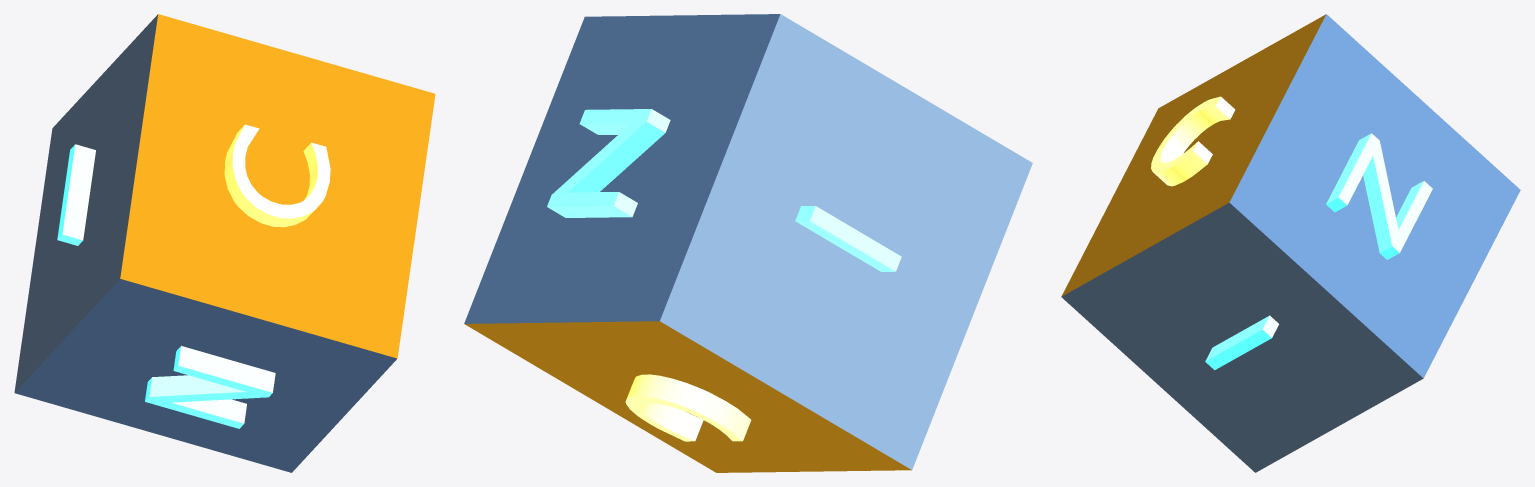
The model's file is inc2.gltf.
3 views of the same model, side by side, from view 1: azimuth 30°, elevation 25°; view 2: azimuth 150°, elevation 25°; view 3: azimuth 270°, elevation 25° (orthographic). The views are drawn at different scales.
Visible parts, largest first — view 1: Cube, Text004, Text002, Text001; view 2: Cube, Text005, Text003, Text001; view 3: Cube, Text005, Text002, Text.
Boxes of the visible parts, x1,y1,x2,y2 form: Cube: (14, 14, 435, 472); Text004: (145, 346, 275, 428); Text002: (224, 124, 330, 227); Text001: (57, 144, 95, 245); Cube: (464, 14, 1032, 472); Text005: (547, 109, 670, 217); Text003: (625, 374, 751, 441); Text001: (795, 206, 901, 271); Cube: (1061, 14, 1520, 472); Text005: (1326, 133, 1432, 259); Text002: (1151, 96, 1235, 186); Text: (1205, 315, 1278, 370).
Size of the model in its own units: 2.73 by 3.35 by 3.35.
